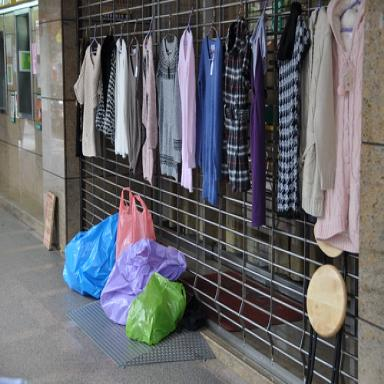plasticbag: (61, 186, 188, 345), (64, 210, 116, 298), (126, 271, 186, 342)
